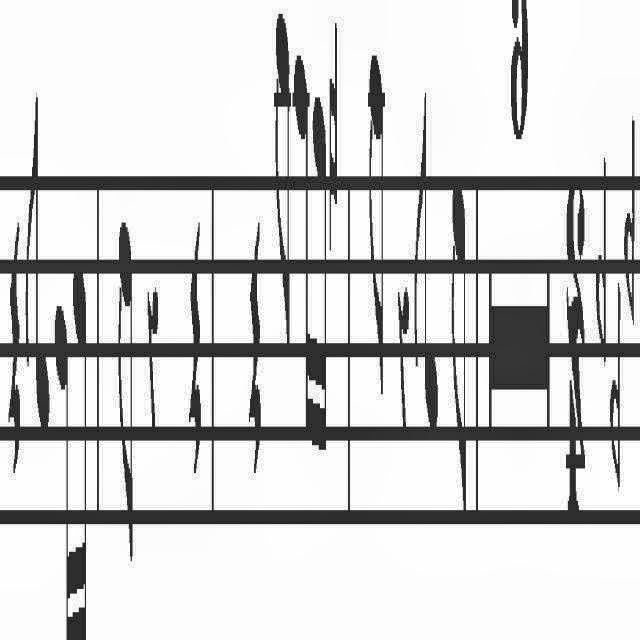Bemol: (608, 276, 622, 497), (624, 108, 636, 336), (594, 153, 606, 377)
Eighth-note: (25, 85, 51, 451), (413, 88, 439, 428), (448, 178, 468, 538), (272, 11, 292, 369), (367, 54, 385, 410), (118, 207, 134, 573)
Eighth-rest: (146, 278, 160, 442), (398, 278, 410, 440)
Quarter-rest: (188, 219, 204, 481), (6, 220, 22, 472), (248, 218, 262, 486)
Sixteenth-note: (293, 52, 311, 478), (72, 246, 88, 640), (312, 84, 328, 463), (56, 292, 72, 640)
